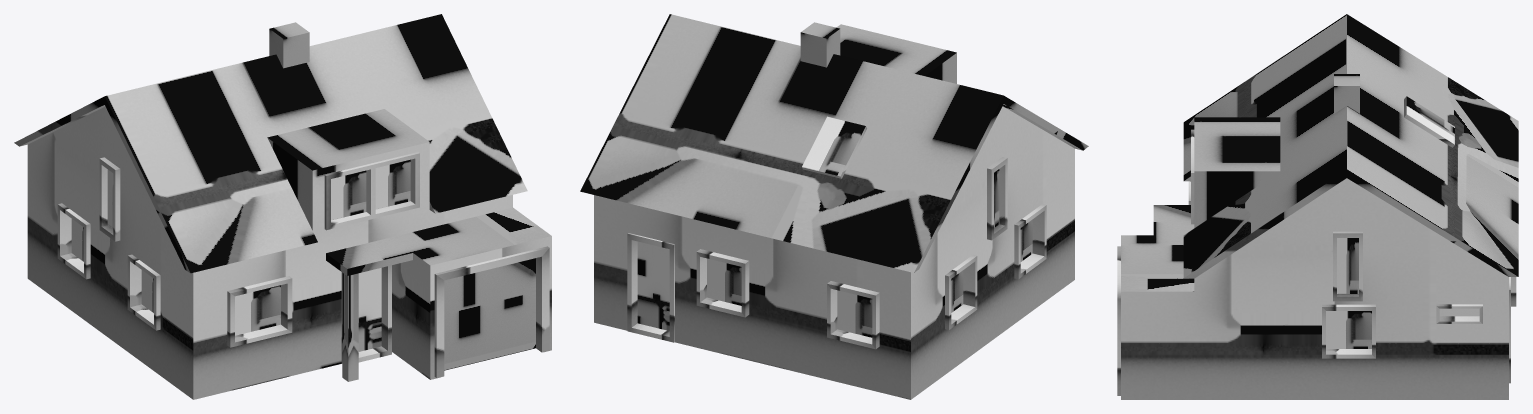
Rendered from family_house_03.glb.
3 views of the same model, side by side, from view 1: azimuth 30°, elevation 25°; view 2: azimuth 150°, elevation 25°; view 3: azimuth 270°, elevation 25° (orthographic). The views are drawn at different scales.
Parts seen in each view (by area): view 1: house4_baked_Cube.055; view 2: house4_baked_Cube.055; view 3: house4_baked_Cube.055.
Part boxes in pixels (<box>): house4_baked_Cube.055: <box>14,14,551,399</box>; house4_baked_Cube.055: <box>580,14,1088,399</box>; house4_baked_Cube.055: <box>1117,14,1518,399</box>.
Size of the model in its own units: 2.35 by 1.78 by 2.55.
1 material, 1 textured.
